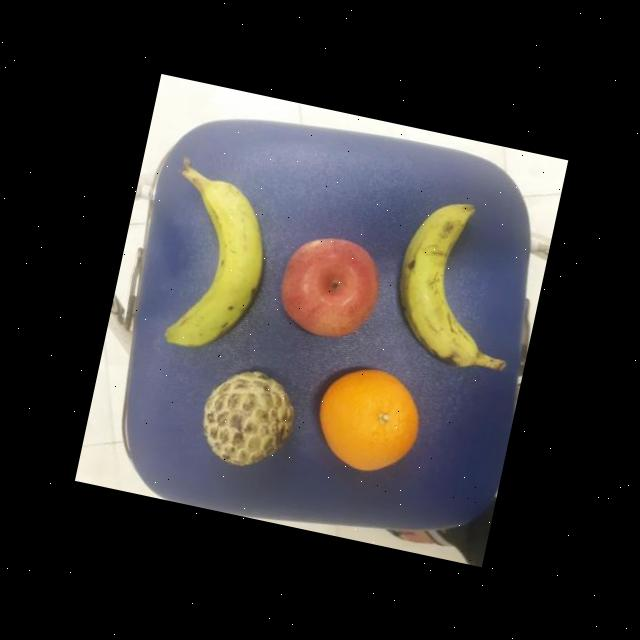Sakya fruit: (190, 357, 304, 477)
apple: (268, 225, 389, 348)
banana: (377, 188, 510, 374), (162, 170, 280, 362)
orange: (305, 355, 431, 482)
